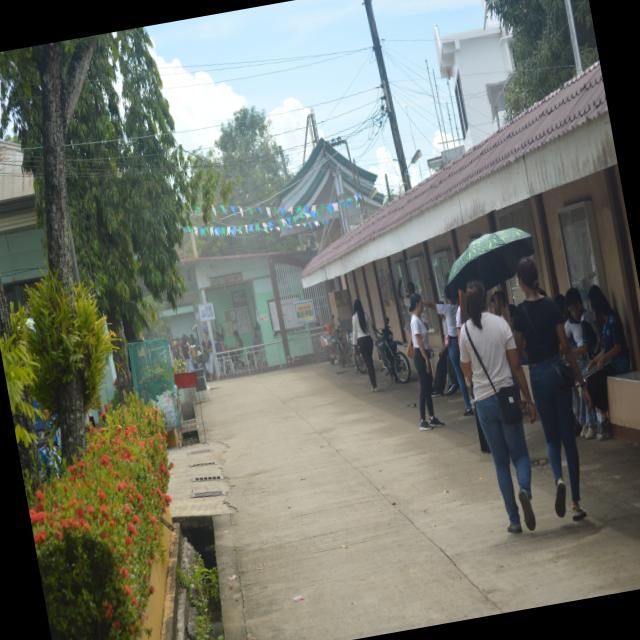person: (459, 280, 535, 533), (513, 257, 585, 520), (586, 286, 629, 440), (424, 286, 473, 416), (408, 294, 442, 431), (352, 300, 376, 392), (201, 333, 213, 381)
